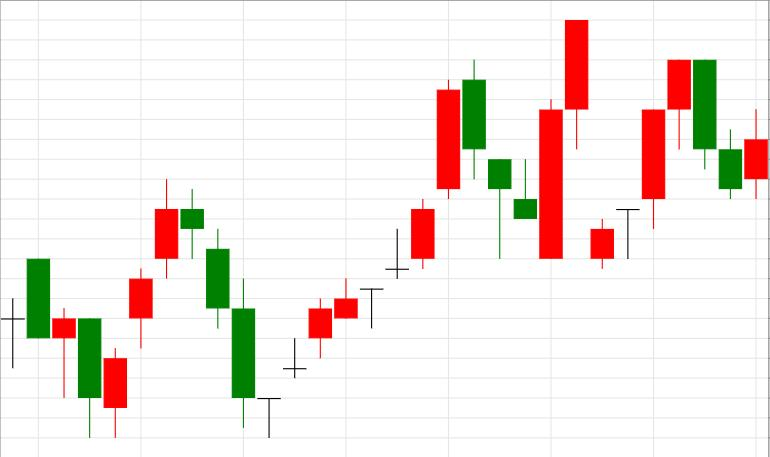bearish_engulfing_fall: (590, 60, 716, 269)
three_black_crows_fall: (104, 179, 255, 439)
